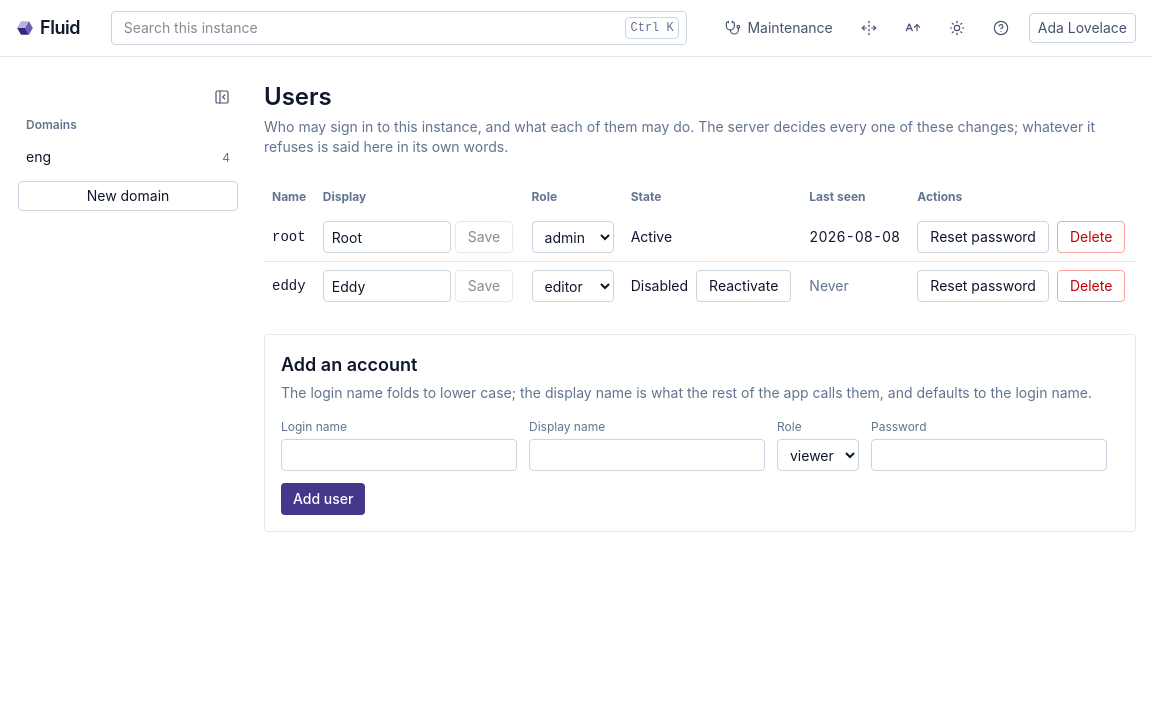
Test case: the user admin screen › takes back the confirmation on escape, with the focus
Click the button with aria-label "delete eddy". click: point(1091, 286)
box: [1057, 270, 1125, 302]
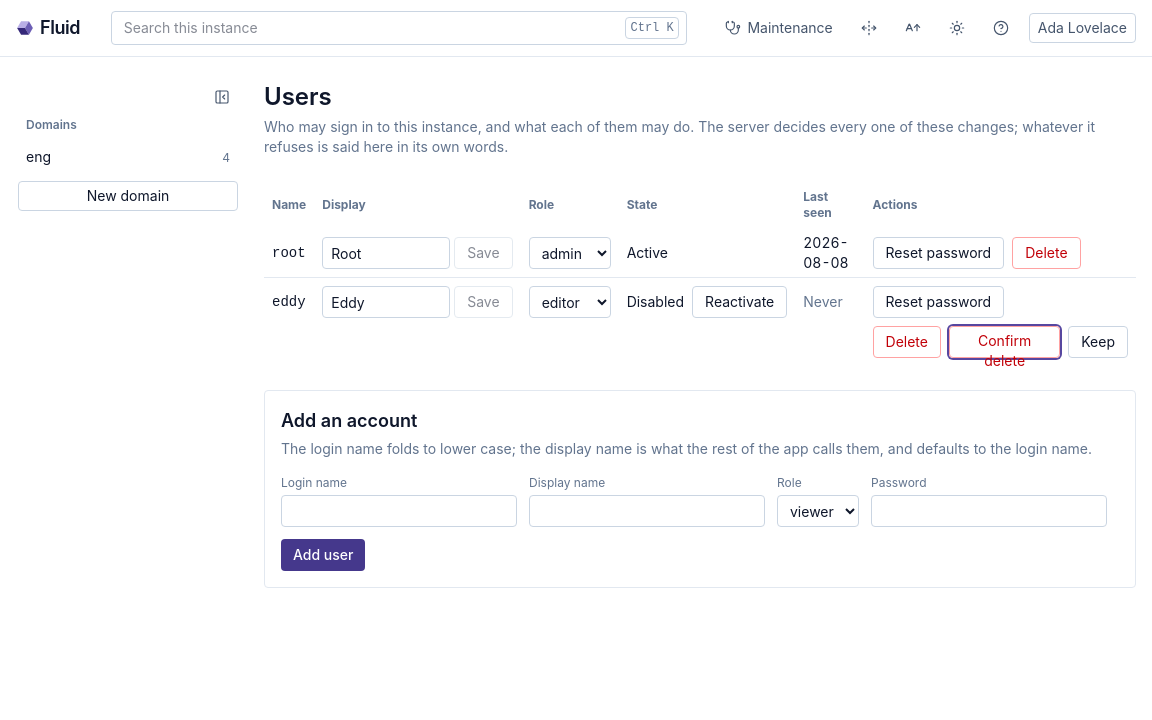
Expected: the button "Confirm delete" is shown, [949, 326, 1060, 358]
Press Escape
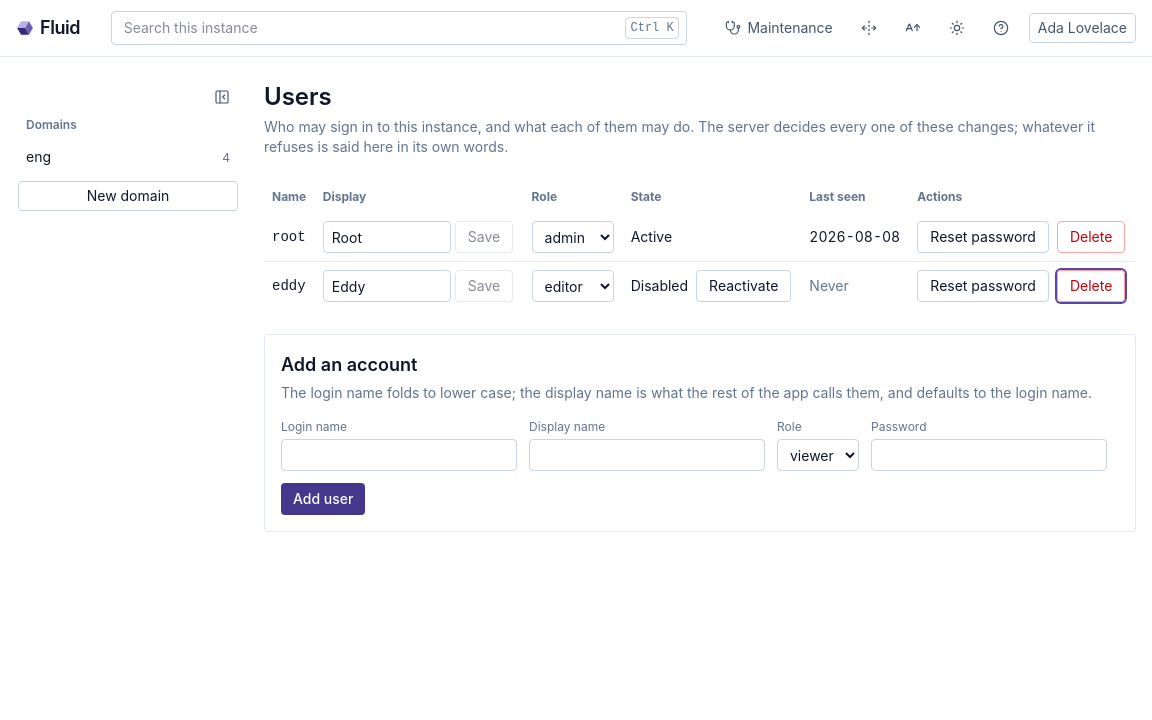
Expected: the button "Confirm delete" is gone
